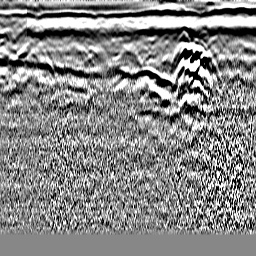cavity: (116, 43, 141, 67)
